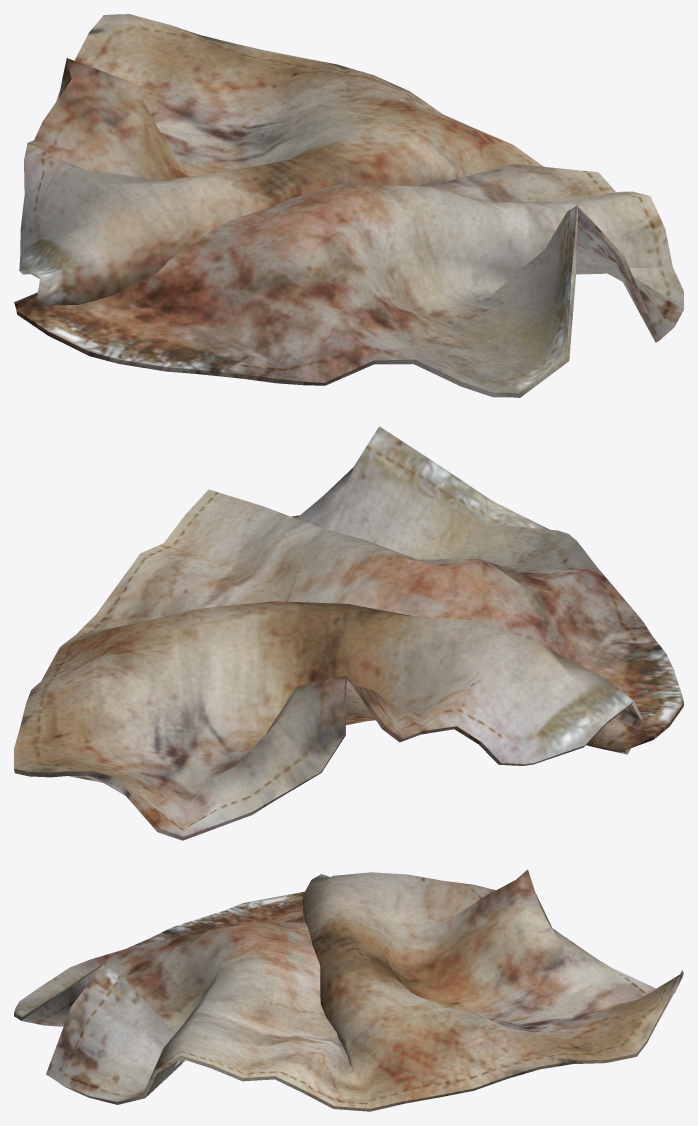
Rendered from Dirty Rag.fbx.
The picture shows the model from 3 angles, top to bottom: view 1: azimuth 30°, elevation 25°; view 2: azimuth 150°, elevation 25°; view 3: azimuth 270°, elevation 25°; orthographic projection. The views are drawn at different scales.
Visible parts, largest first — view 1: rag01; view 2: rag01; view 3: rag01.
Boxes of the visible parts, left/top/right/bottom form: rag01: left=14, top=14, right=683, bottom=397; rag01: left=14, top=426, right=683, bottom=840; rag01: left=14, top=869, right=683, bottom=1111.
Size of the model in its own units: 53.83 by 12.11 by 71.99.
